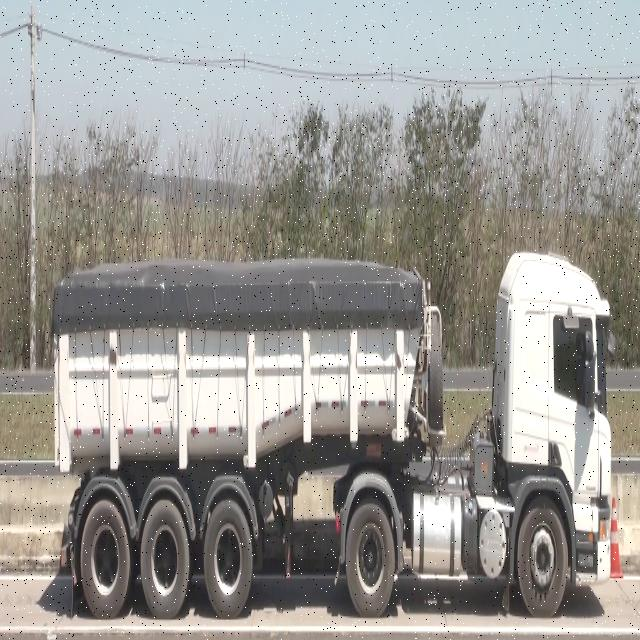-axle: (203, 496, 255, 621), (140, 498, 191, 620), (518, 498, 568, 614), (81, 498, 130, 614), (345, 503, 395, 616)
